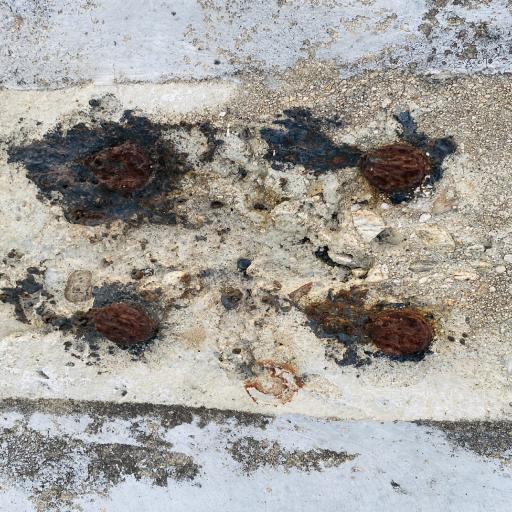exposed_rebar: (85, 140, 151, 192), (366, 309, 433, 357), (363, 144, 427, 194), (92, 304, 153, 345)
